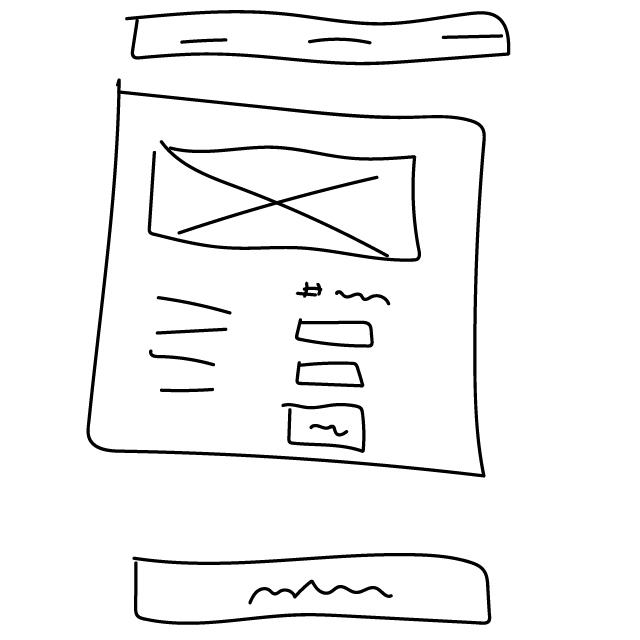buttonrotation: (280, 397, 373, 456)
containerrotation: (87, 81, 499, 486)
footerrotation: (124, 553, 499, 630)
framerotation: (144, 136, 427, 267)
headingrotation: (295, 275, 395, 316)
inputrotation: (293, 316, 379, 352), (290, 358, 374, 393)
navrotation: (121, 5, 517, 72)
textrotation: (142, 288, 242, 411)
